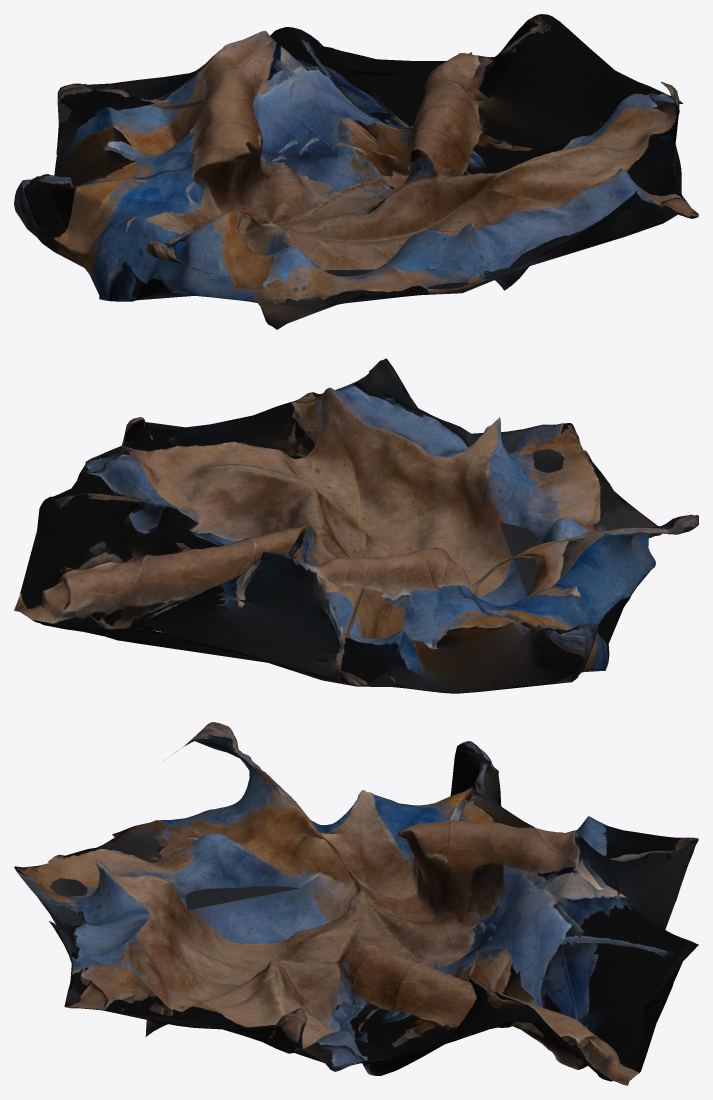
File: leaf-14.glb
3 renders of one model, top to bottom at view 1: azimuth 30°, elevation 25°; view 2: azimuth 150°, elevation 25°; view 3: azimuth 270°, elevation 25°, orthographic. The views are drawn at different scales.
Parts seen in each view (by area): view 1: Mesh; view 2: Mesh; view 3: Mesh.
Part boxes in pixels (box(x1,y1,x2,y2)): Mesh: box(14, 14, 698, 329); Mesh: box(14, 358, 698, 693); Mesh: box(14, 722, 698, 1085).
Size of the model in its own units: 0.3926 by 0.09 by 0.3661.
Materials: 1 (1 with a texture image).
